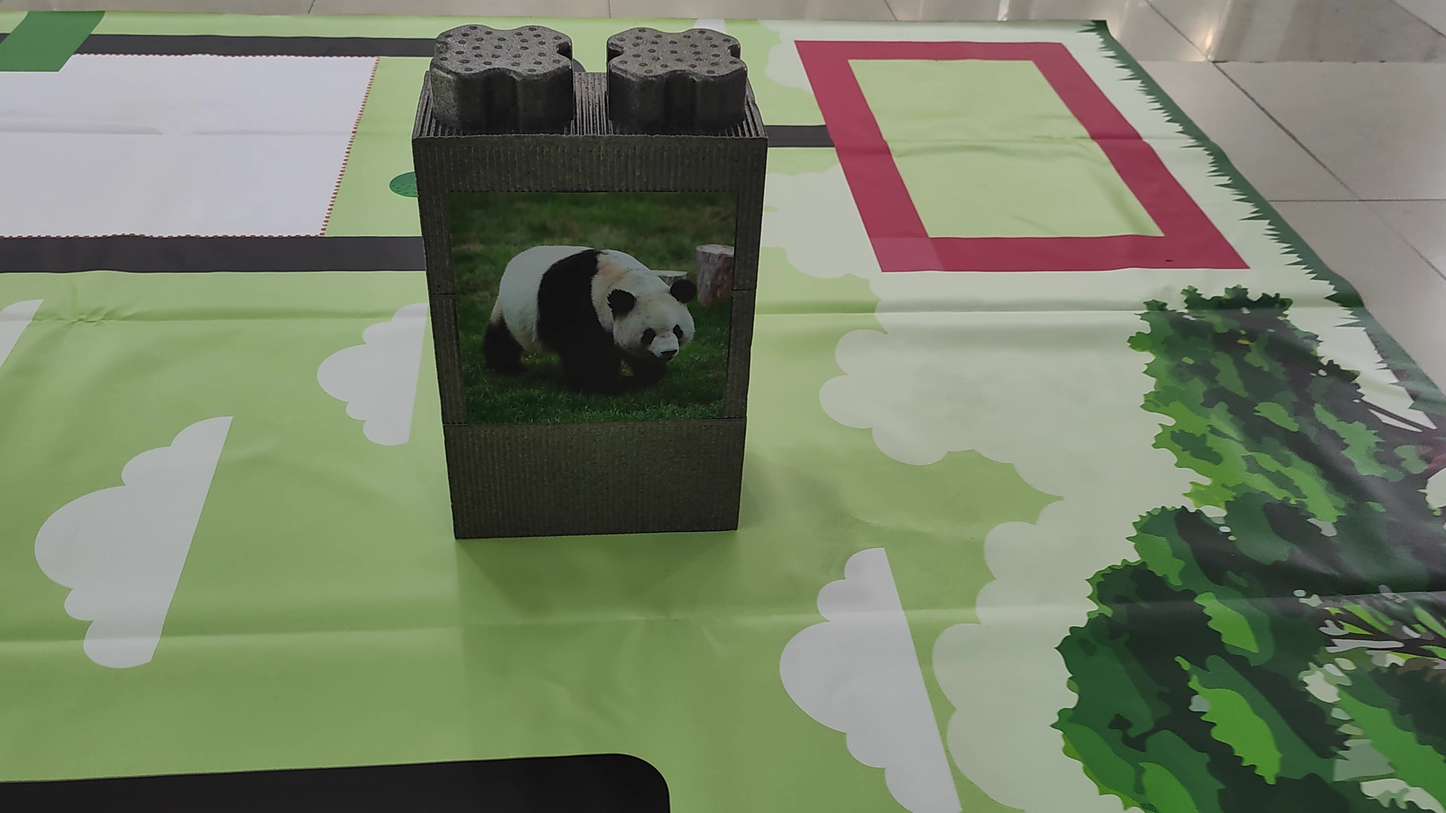panda: (475, 177, 719, 418)
